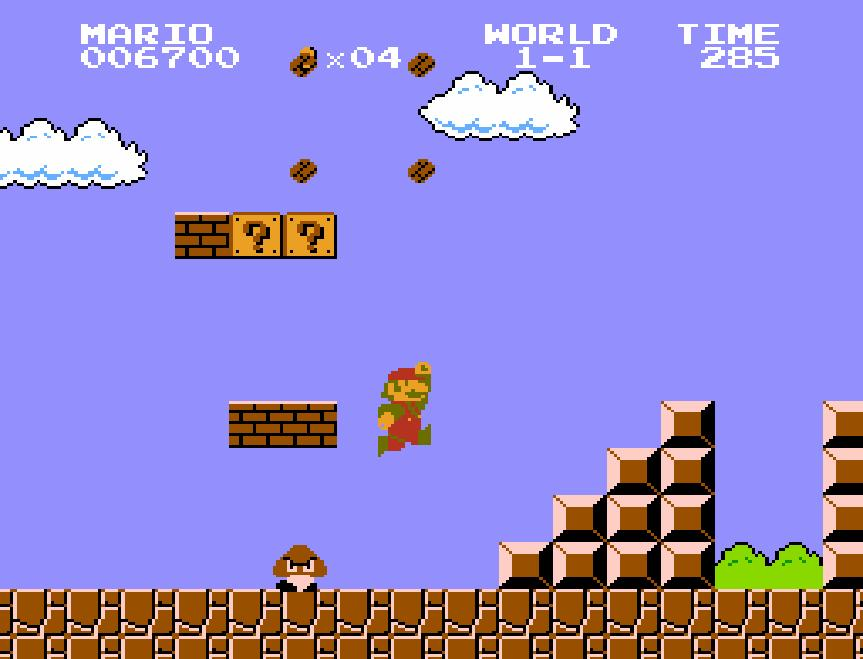big_mario: (376, 360, 434, 458)
